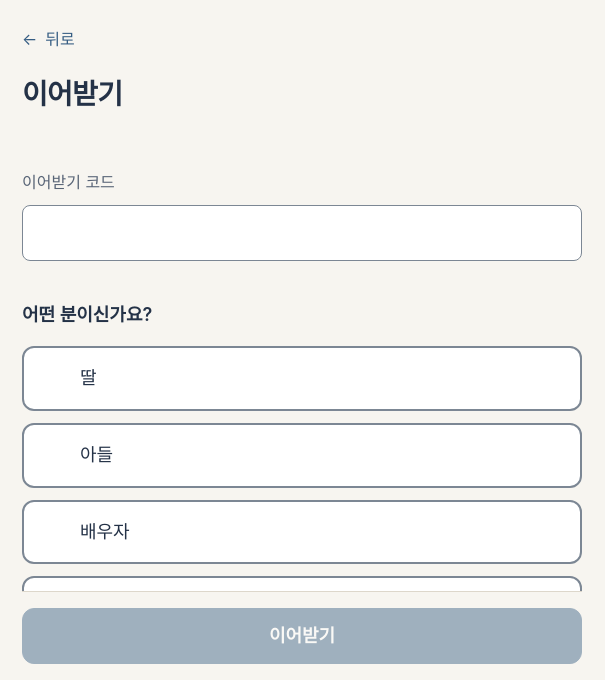
이어받기 › 성공하면 토큰을 저장한다
The width and height of the screenshot is (605, 680).
In the field labelled "이어받기 코드": (302, 233) [22,205,582,261], type "k7m3p9rw"
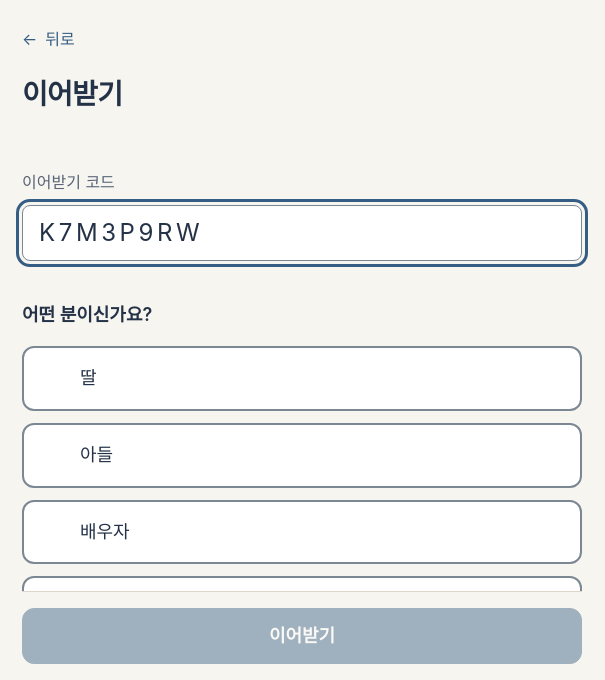
Click the button "아들": click(97, 454) [22,423,582,488]
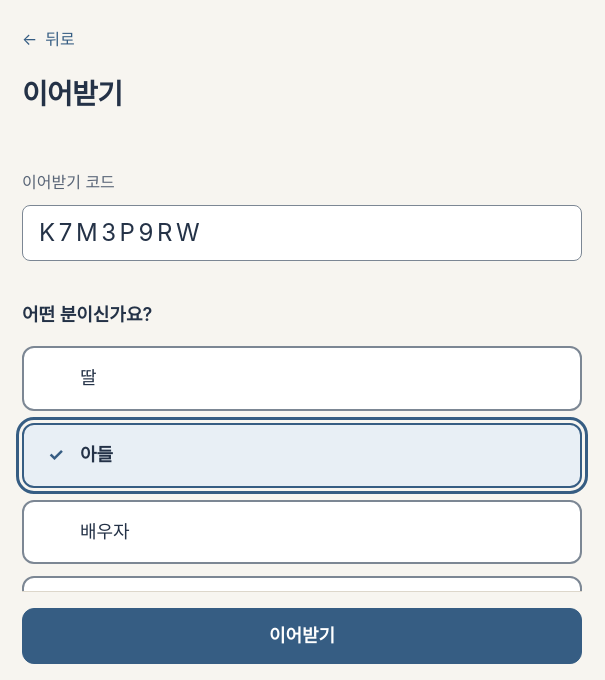
Click the button "이어받기": click(302, 636) [22,608,582,664]
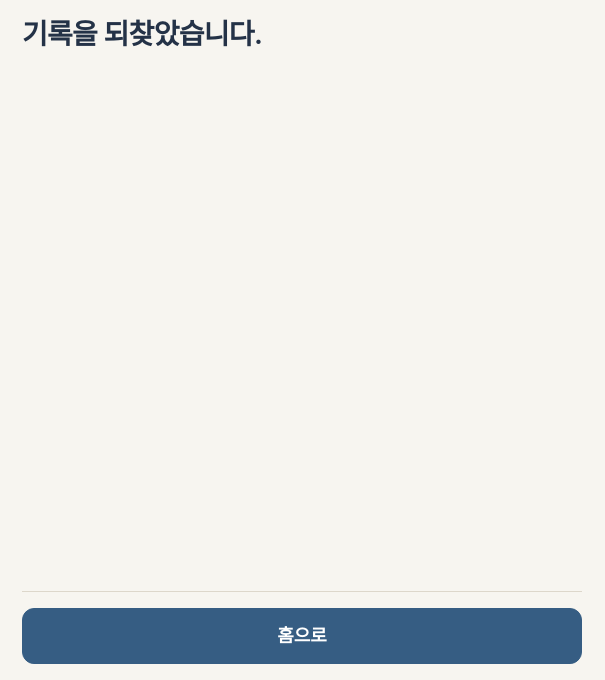
Now the heading "기록을 되찾았습니다." is shown, box [22,16,262,52]
